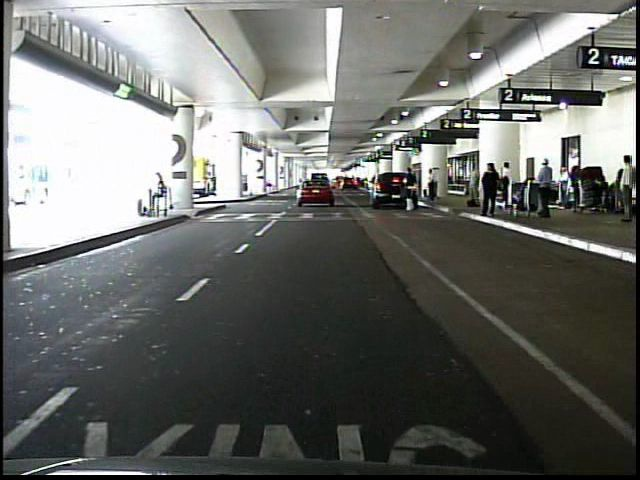person: (615, 155, 636, 225), (534, 157, 553, 219), (149, 171, 170, 220), (481, 161, 499, 215), (570, 164, 584, 212), (556, 168, 571, 206), (405, 167, 417, 213), (500, 160, 511, 200), (427, 168, 439, 203)
